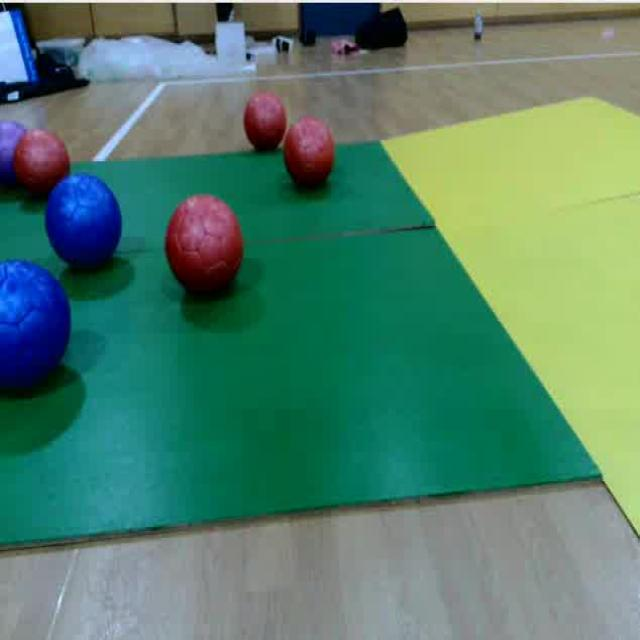blue_ball: (0, 255, 72, 398), (45, 172, 125, 277)
purple_ball: (0, 115, 30, 200)
red_ball: (167, 192, 248, 298), (12, 126, 73, 208), (283, 115, 337, 191), (242, 89, 286, 156)
